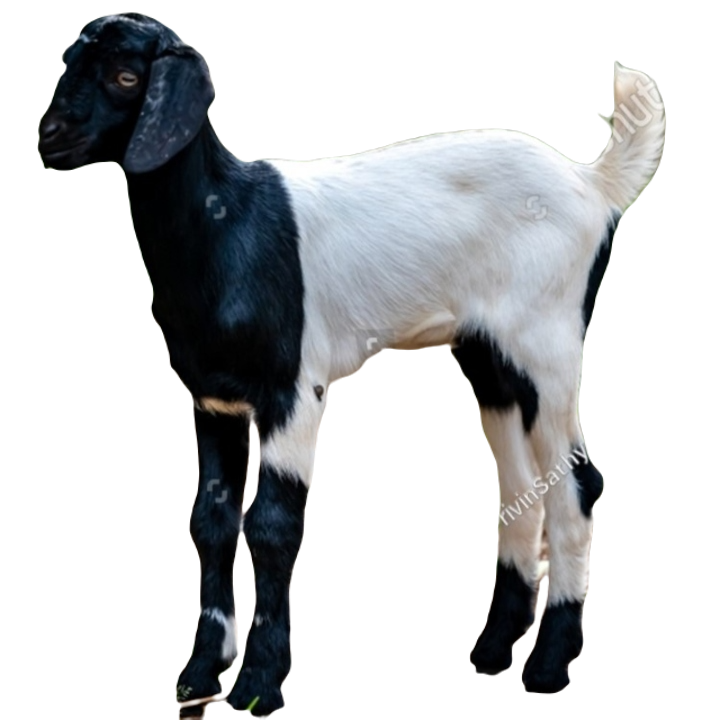Goat: (36, 13, 663, 719)
